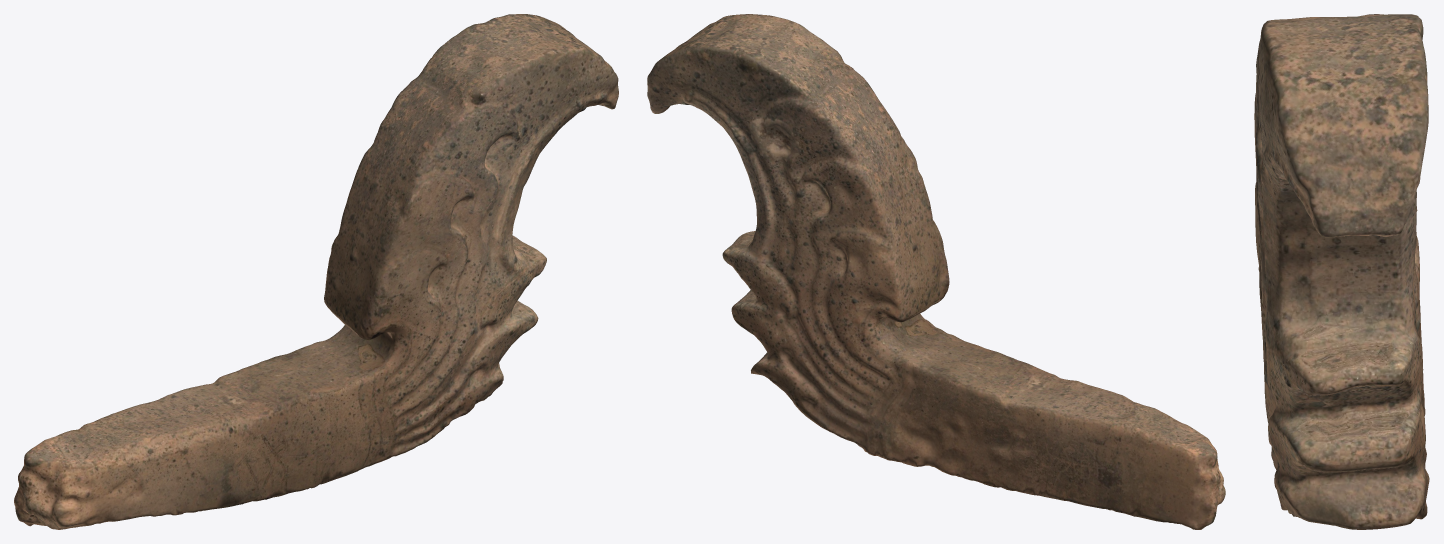
Rendered from MysonMuseum_hoatiethoaco_final.glb.
The picture shows the model from 3 angles, left to right: view 1: azimuth 30°, elevation 25°; view 2: azimuth 150°, elevation 25°; view 3: azimuth 270°, elevation 25°; orthographic projection. The views are drawn at different scales.
Size of the model in its own units: 0.3394 by 0.2144 by 0.0577.
1 material, 1 textured.
